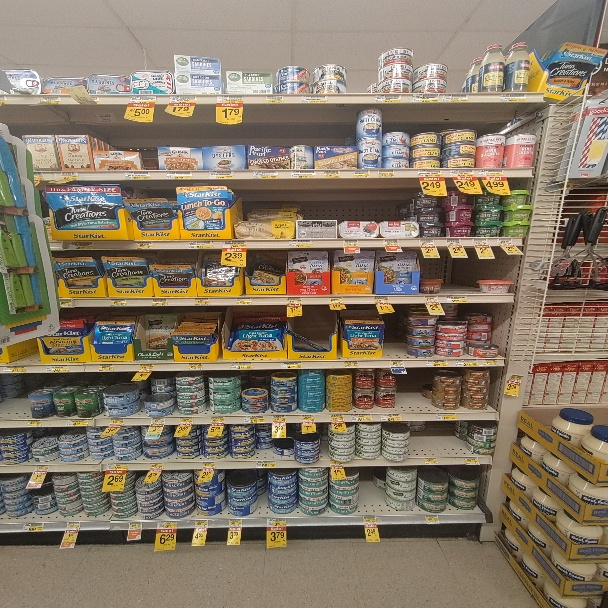All PRICE TAGS: (170, 96, 197, 103), (3, 366, 26, 374), (302, 96, 328, 103), (442, 94, 468, 101), (500, 94, 526, 101), (66, 242, 90, 249), (291, 171, 315, 178), (219, 96, 243, 103), (377, 95, 401, 102), (417, 94, 438, 102), (209, 171, 233, 178), (418, 170, 442, 177), (129, 96, 156, 102), (231, 362, 253, 369), (224, 241, 246, 248), (282, 361, 301, 369), (245, 415, 264, 423), (459, 359, 478, 367), (45, 366, 70, 372), (126, 172, 151, 178), (191, 241, 212, 248), (25, 523, 43, 531), (167, 172, 191, 178), (480, 170, 503, 176), (453, 170, 476, 176), (54, 172, 77, 178), (267, 518, 286, 525), (256, 460, 275, 467), (448, 295, 467, 302), (40, 96, 62, 102), (254, 171, 276, 177), (158, 521, 176, 528), (109, 462, 127, 469), (109, 298, 127, 305), (67, 419, 88, 425), (424, 515, 439, 523), (362, 516, 377, 524), (290, 241, 310, 247), (66, 522, 81, 530), (194, 520, 211, 527), (341, 360, 358, 367), (151, 298, 168, 305), (497, 238, 514, 245), (136, 242, 153, 249), (324, 171, 341, 178), (382, 414, 401, 420), (186, 363, 202, 370), (473, 238, 489, 245), (378, 170, 394, 177), (428, 360, 446, 366), (95, 365, 113, 371), (228, 519, 243, 526), (463, 457, 478, 464), (287, 297, 302, 304), (194, 298, 209, 305), (447, 238, 462, 245), (419, 239, 434, 246), (384, 239, 399, 246), (27, 420, 42, 427), (354, 170, 369, 177), (352, 414, 369, 420), (236, 298, 253, 304), (267, 96, 284, 102), (128, 522, 142, 529), (423, 457, 437, 464), (178, 417, 192, 424), (423, 296, 439, 302), (437, 414, 453, 420), (343, 240, 359, 246), (201, 461, 214, 468), (59, 299, 72, 306), (211, 416, 226, 422), (390, 360, 405, 366), (138, 364, 153, 370), (328, 297, 343, 303), (330, 460, 344, 466), (150, 462, 164, 468), (329, 414, 343, 420), (272, 415, 286, 421), (151, 417, 165, 423), (110, 418, 124, 424), (375, 297, 389, 303), (34, 466, 48, 472), (509, 375, 523, 381), (485, 360, 499, 366), (34, 172, 43, 181), (302, 415, 315, 421), (387, 458, 400, 463)
